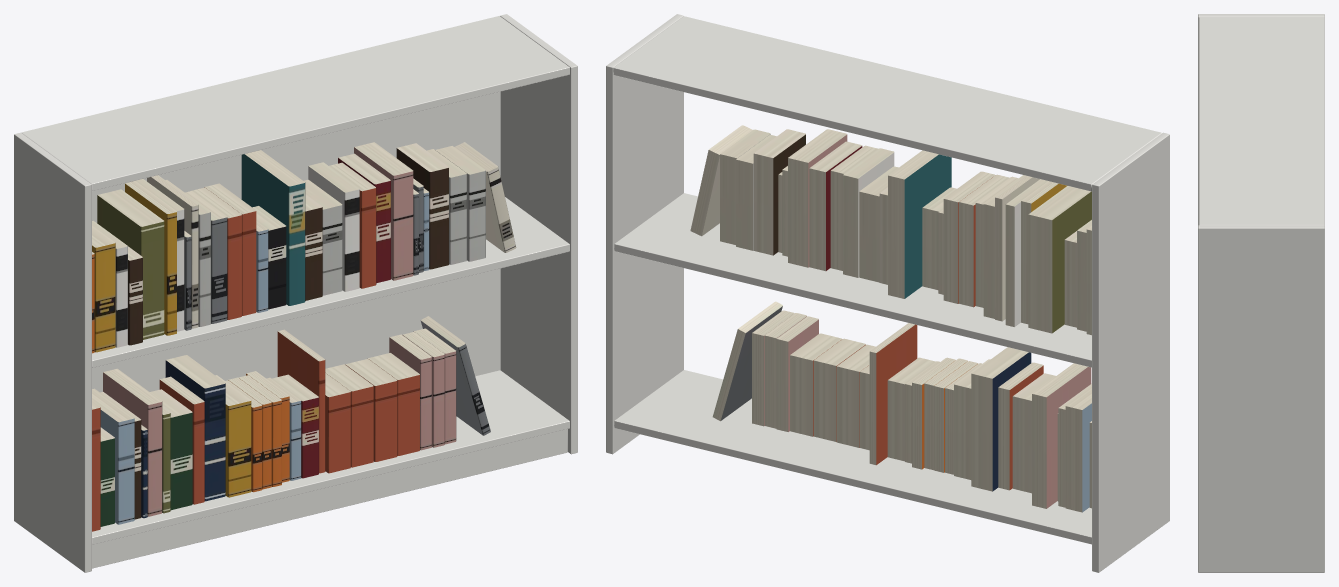
File: bookshelf_low.glb
3 renders of one model, left to right at view 1: azimuth 30°, elevation 25°; view 2: azimuth 150°, elevation 25°; view 3: azimuth 270°, elevation 25°, orthographic. The views are drawn at different scales.
Visible parts, largest first — view 1: shelf_filled_hard; view 2: shelf_filled_hard; view 3: shelf_filled_hard.
Boxes of the visible parts, x1,y1,x2,y2 form: shelf_filled_hard: [14, 14, 577, 572]; shelf_filled_hard: [606, 14, 1169, 572]; shelf_filled_hard: [1198, 14, 1324, 572].
Bounding box in the file's own units: 1.2 × 0.9 × 0.3.
2 materials, 1 textured.
